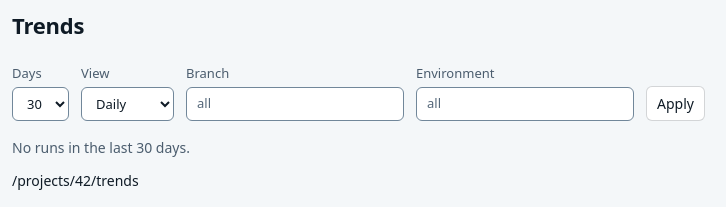
Test: Trends › a change updates the URL; Apply writes the text filters
Step 1. Select "7" in the dropdown labelled "Days" → coordinates (40, 104), box [12, 87, 69, 121]
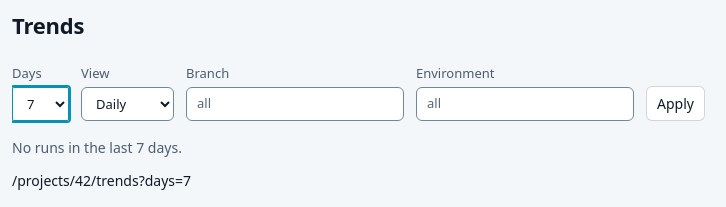
Now the text with test id "where" reads "/projects/42/trends?days=7", box [12, 171, 191, 190]
Step 2. Type "dev" into the field labelled "Branch" → coordinates (295, 104), box [186, 87, 404, 121]
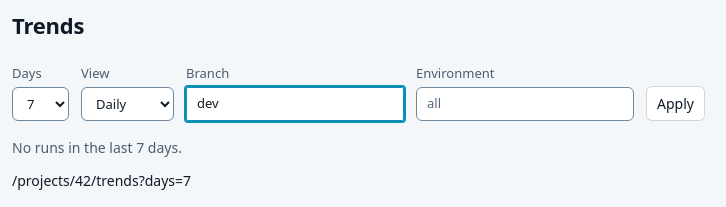
Step 3. Click the button "Apply" → coordinates (675, 104), box [646, 86, 705, 121]
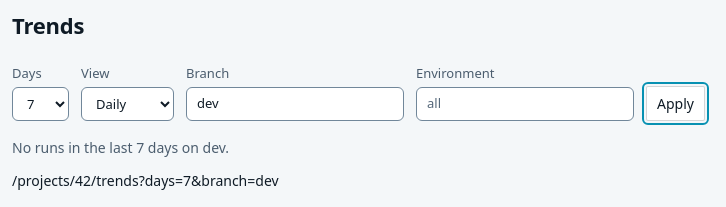
Now the text with test id "where" reads "/projects/42/trends?days=7&branch=dev", box [12, 171, 279, 190]
